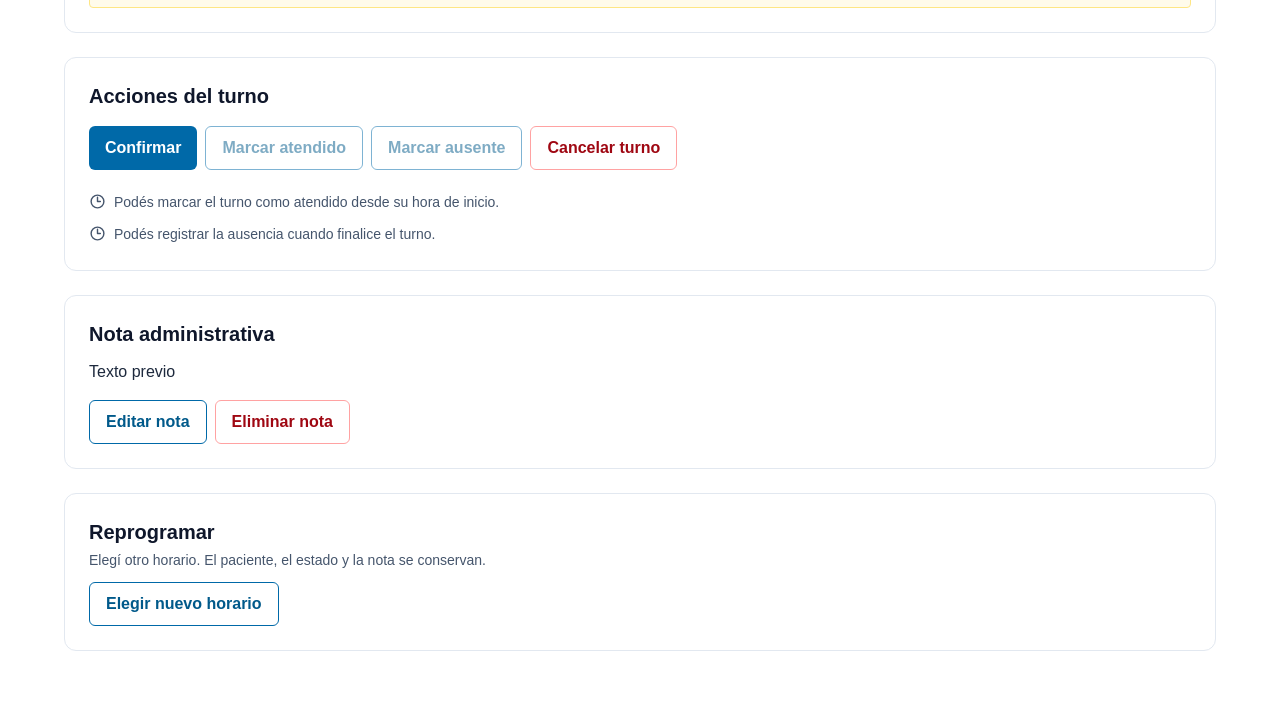
Scenario: appointment detail flow › sends exact CAS, preserves NULL and empty note, and stops on stale
(page scrolled)
What coordinates should you click on to do the following:
click the button "Eliminar nota"
I would click on:
 (282, 422)
Its box is left=215, top=400, right=350, bottom=444.
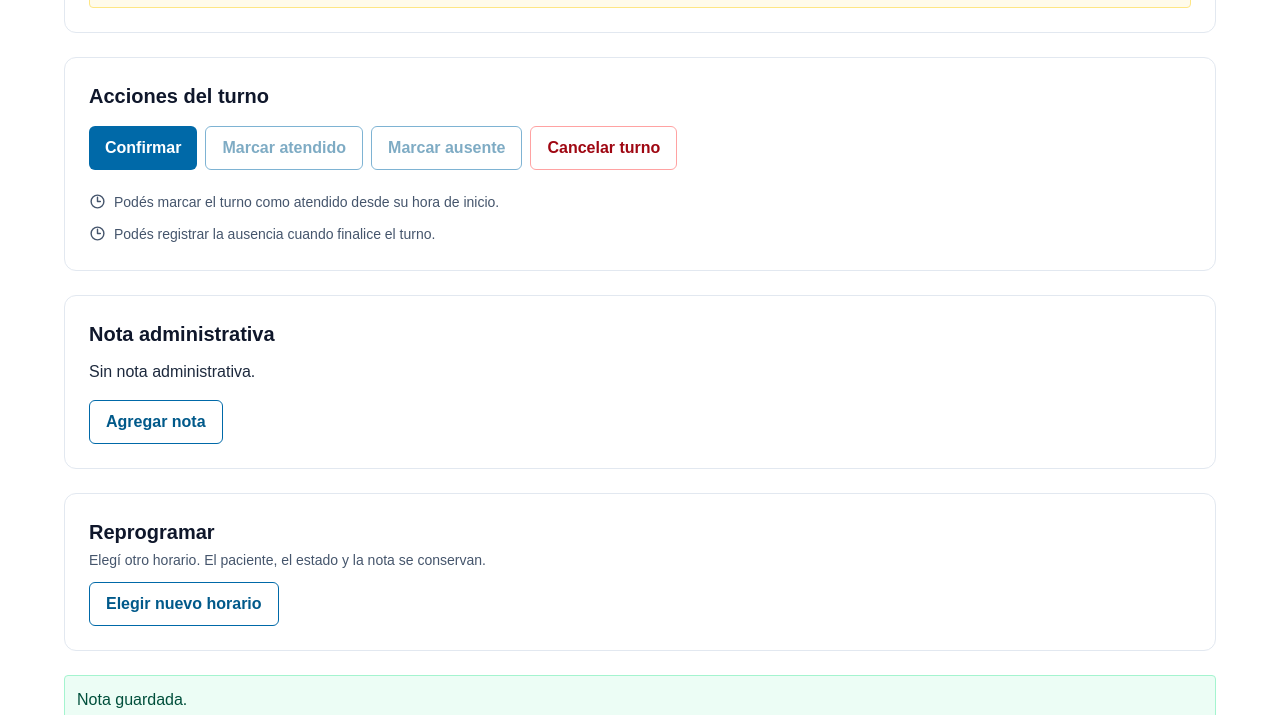
What coordinates should you click on to do the following:
click the button "Agregar nota"
I would click on:
 (156, 422)
Its box is left=89, top=400, right=223, bottom=444.
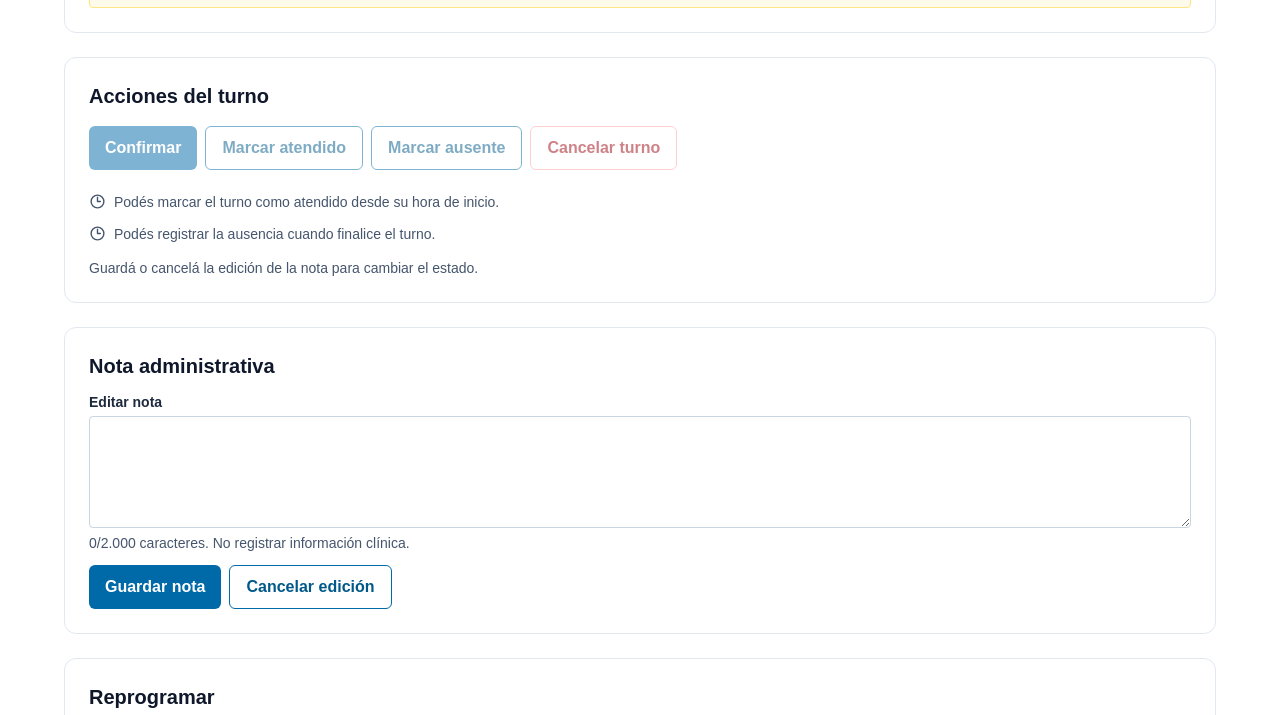
What coordinates should you click on to do the following:
click the button "Guardar nota"
I would click on:
 (155, 587)
Its box is left=89, top=565, right=222, bottom=609.
(page scrolled)
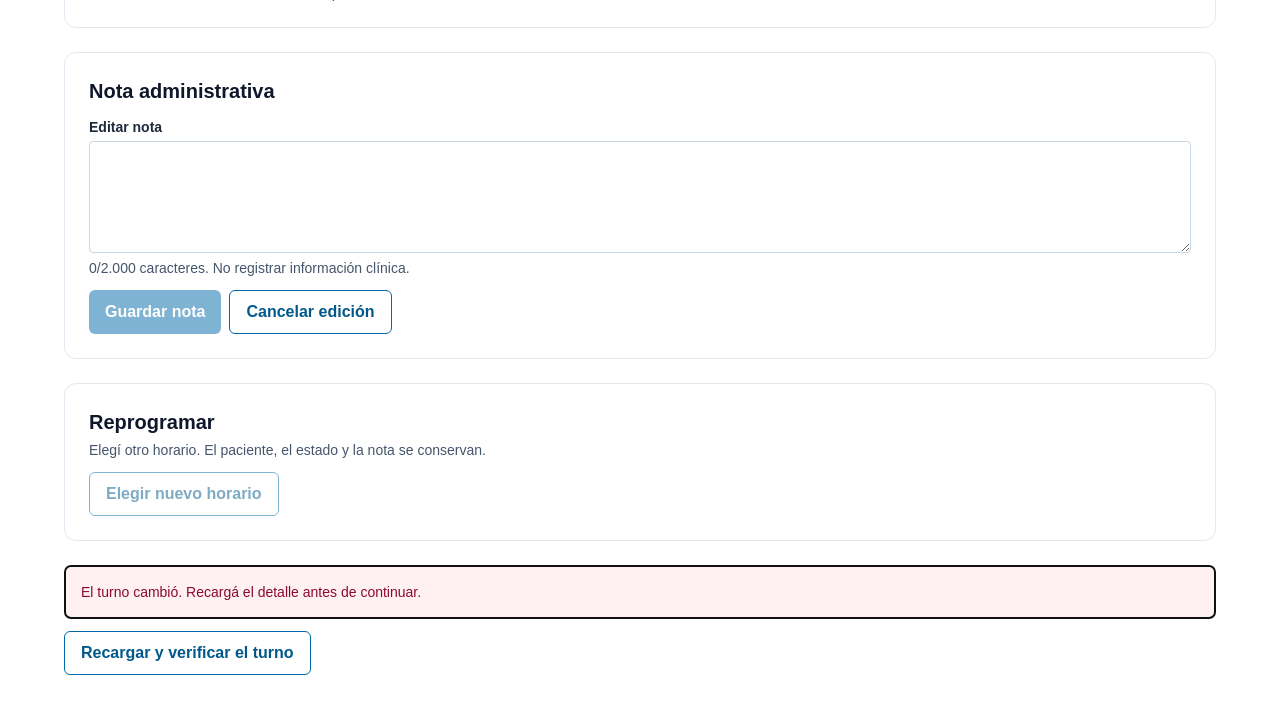
Expected: the message reads "El turno cambió. Recargá el detalle antes de continuar.", left=81, top=584, right=421, bottom=600
Expected: the button "Guardar nota" is disabled, left=89, top=290, right=222, bottom=334
Expected: the button "Recargar y verificar el turno" is shown, left=64, top=631, right=310, bottom=675
